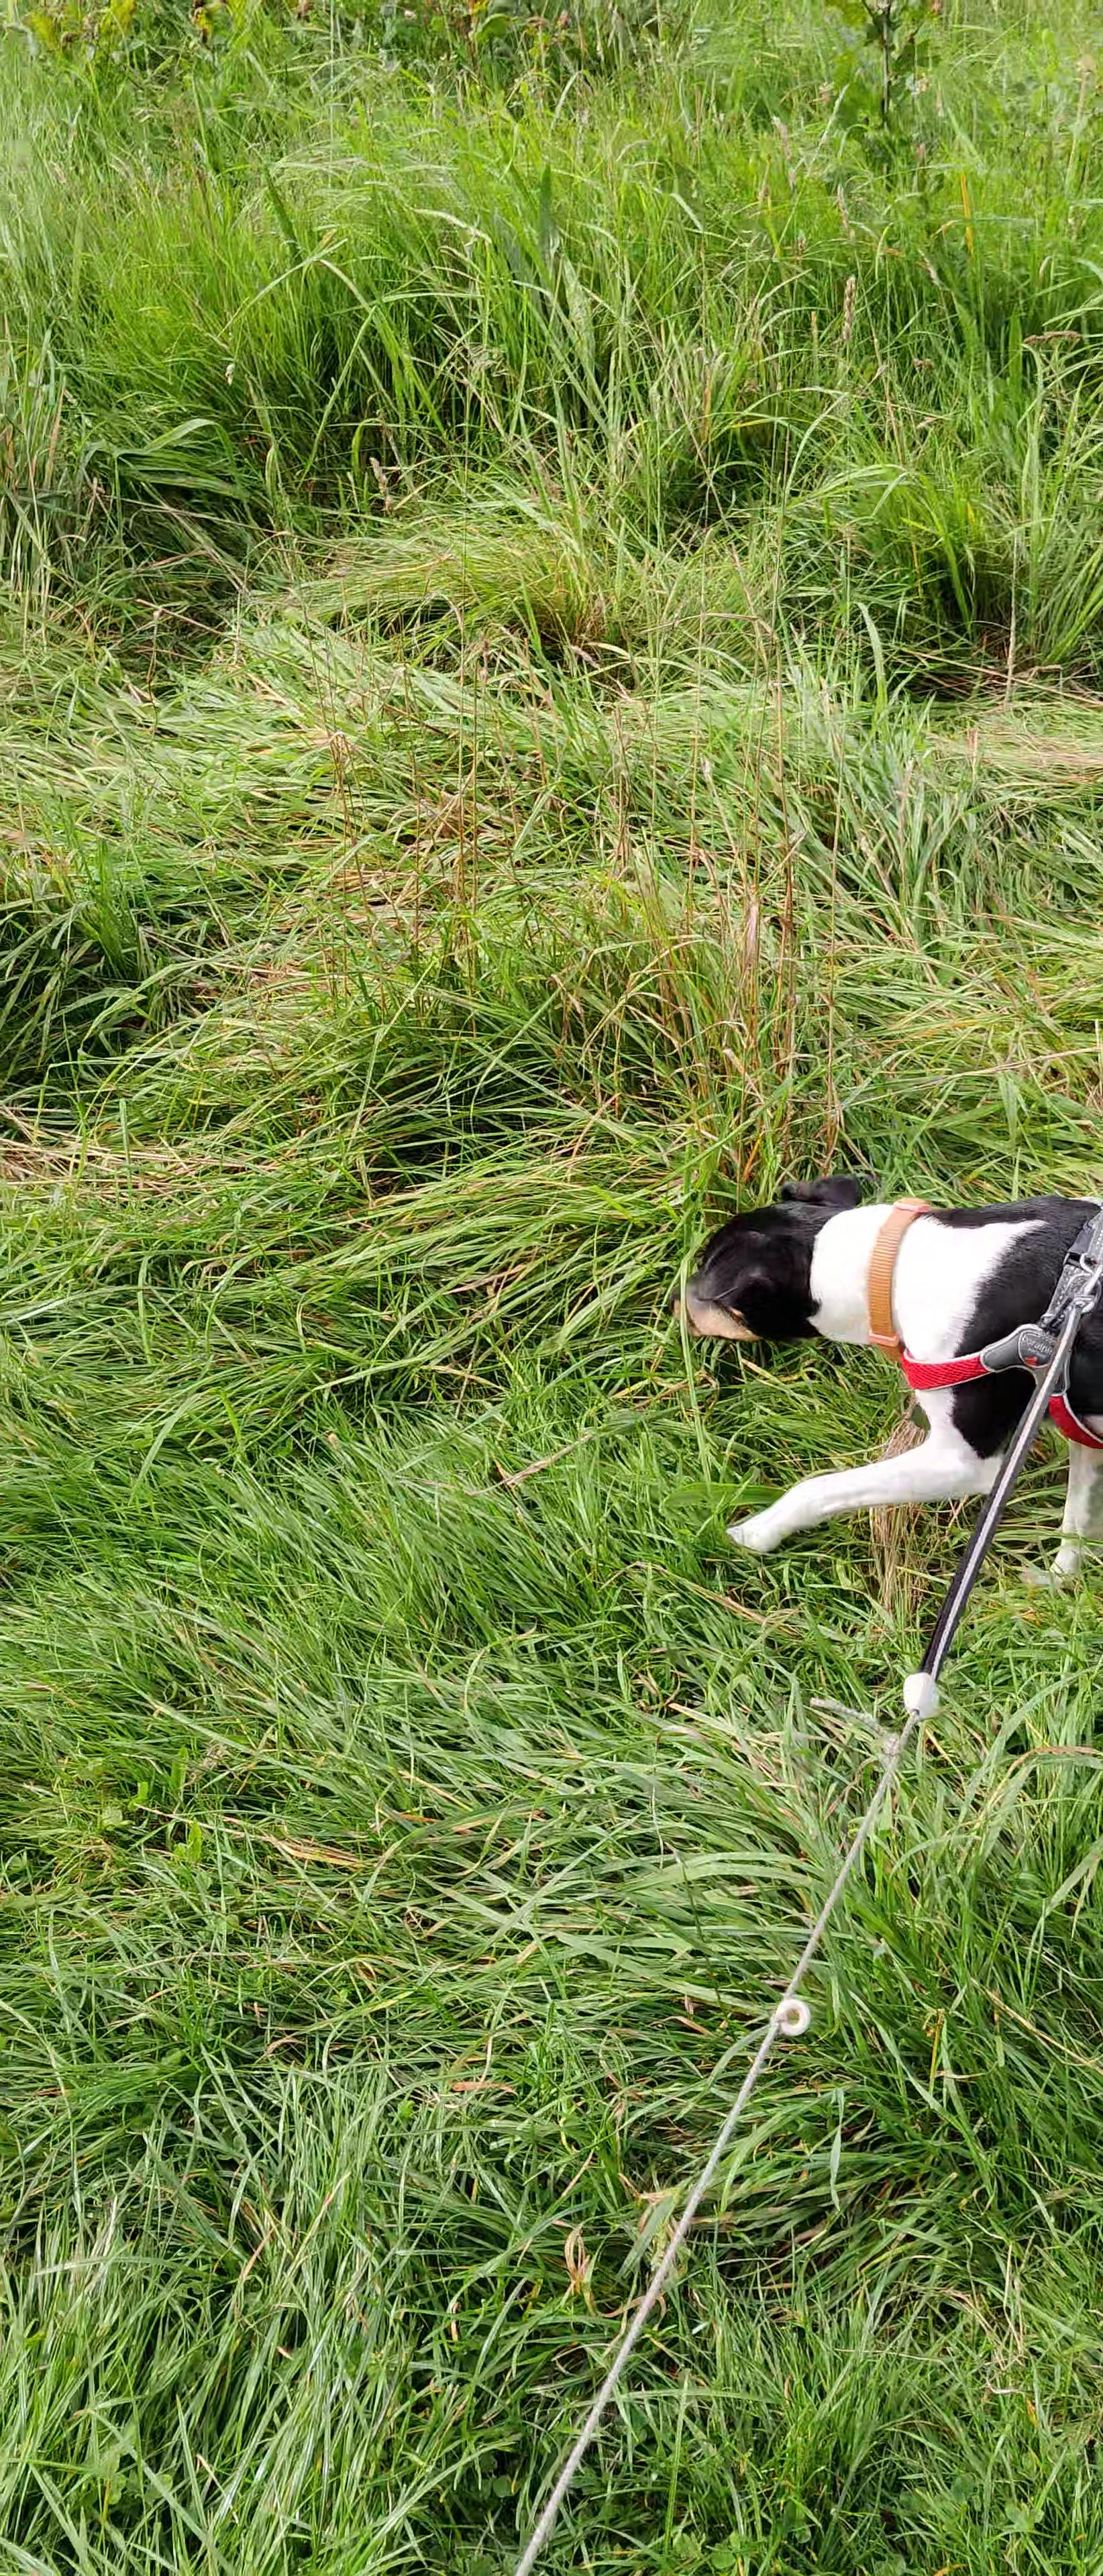Dog: (659, 1175, 1103, 1584)
